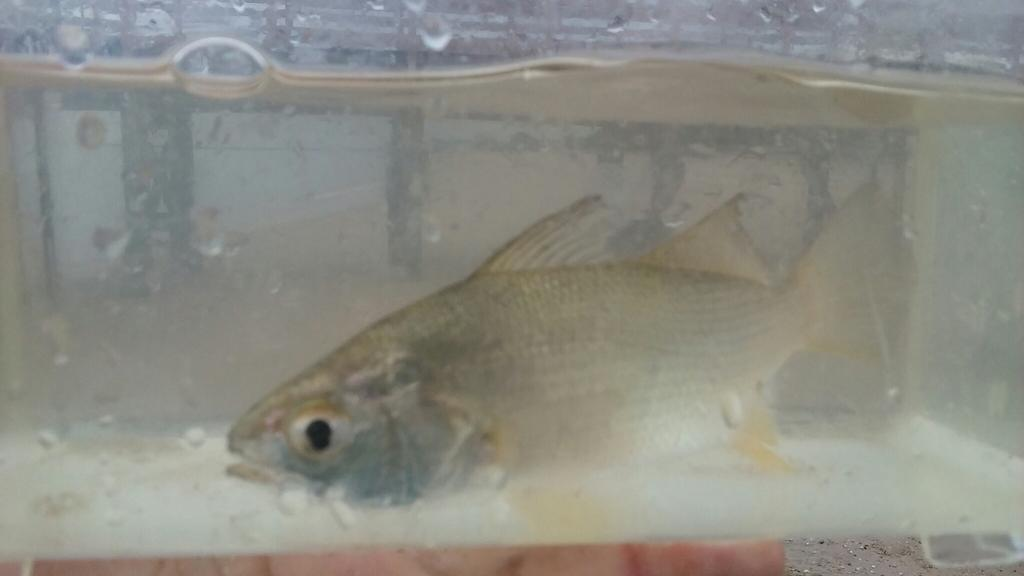Silver Perch: (226, 183, 910, 519)
